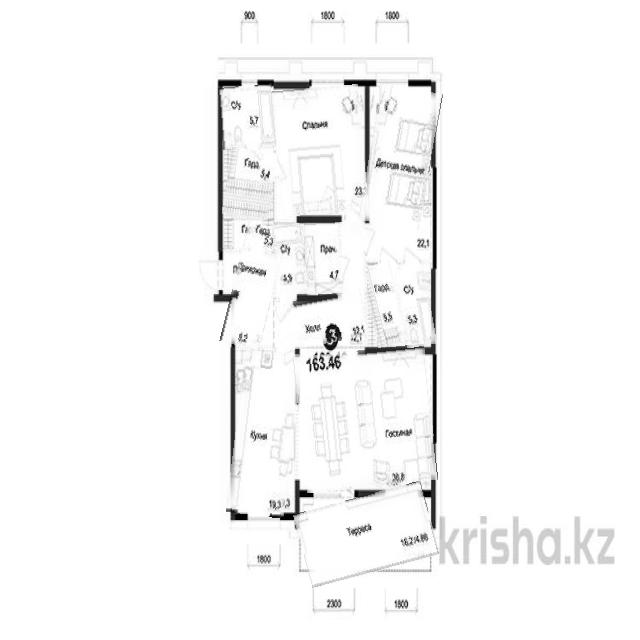balcony: (297, 488, 436, 581)
bathroom: (305, 222, 367, 296), (220, 84, 276, 149), (397, 266, 434, 347), (274, 224, 307, 294)
hallway: (226, 222, 281, 349), (275, 292, 368, 348)
kitchen: (231, 350, 299, 517)
living_room: (297, 347, 435, 490), (273, 86, 366, 215), (364, 86, 438, 228)
other: (224, 149, 275, 219), (364, 263, 404, 347)
